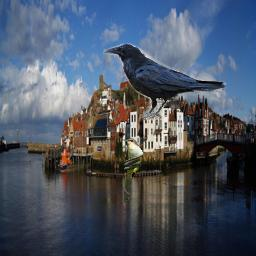Crow: (103, 43, 227, 121)
Cuckoo: (122, 138, 144, 202)
